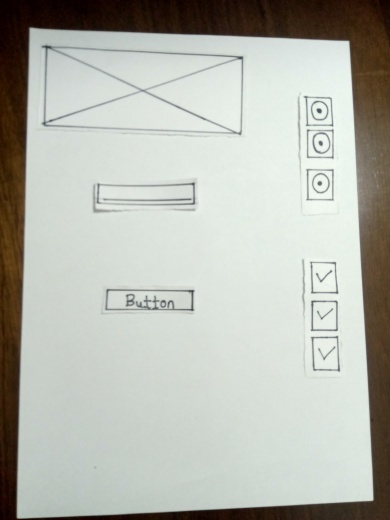button: (106, 288, 191, 315)
checkbox: (308, 336, 340, 374), (306, 302, 339, 332), (310, 262, 338, 293)
img: (43, 45, 243, 146)
radio: (305, 169, 336, 205), (303, 99, 332, 125), (306, 129, 335, 155)
text: (91, 179, 199, 209)
